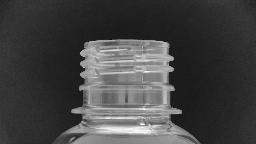No Cap: (66, 35, 184, 121)
